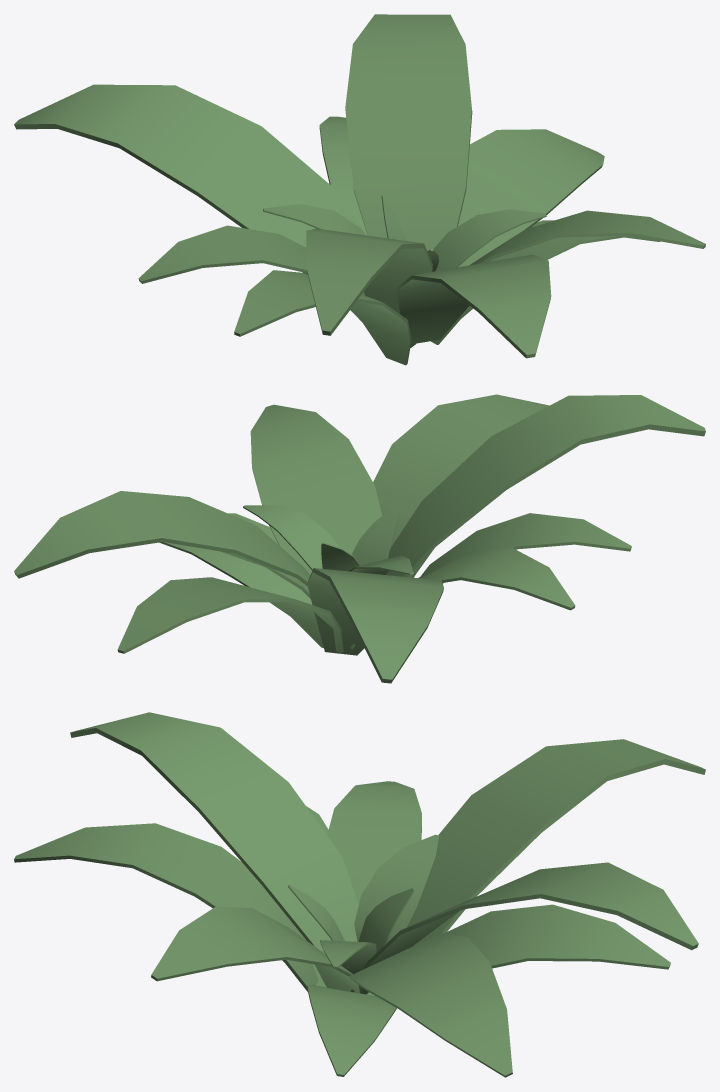
File: Plants_Pack_Leaf_02.005.fbx
3 views of the same model, one above another, from view 1: azimuth 30°, elevation 25°; view 2: azimuth 150°, elevation 25°; view 3: azimuth 270°, elevation 25° (orthographic). The views are drawn at different scales.
Parts seen in each view (by area): view 1: Plants_Pack_Leaf_02.005; view 2: Plants_Pack_Leaf_02.005; view 3: Plants_Pack_Leaf_02.005.
Boxes of the visible parts, bbox=[...] form: Plants_Pack_Leaf_02.005: bbox=[14, 14, 705, 365]; Plants_Pack_Leaf_02.005: bbox=[14, 394, 705, 683]; Plants_Pack_Leaf_02.005: bbox=[14, 712, 705, 1077].
Size of the model in its own units: 138 by 54.78 by 162.
